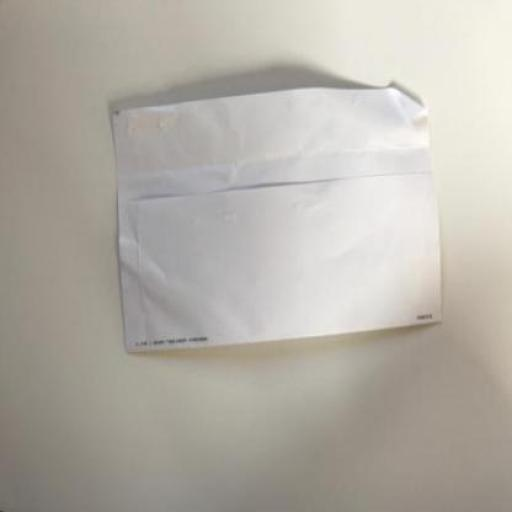paper: (112, 85, 442, 351)
